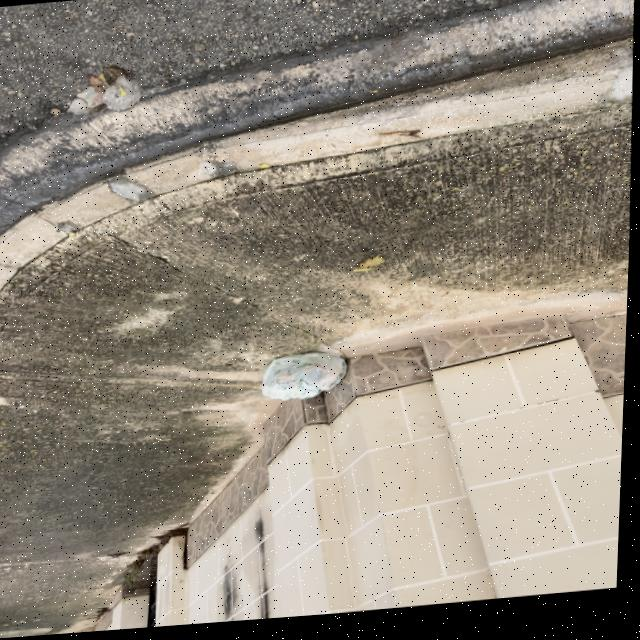Organic Waste -White Bag-: (263, 355, 351, 407)
